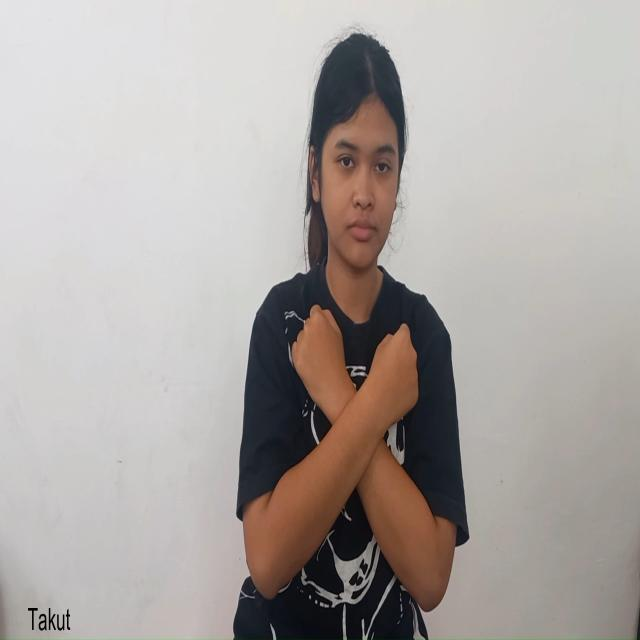Takut -BISINDO-: (280, 297, 424, 553)
